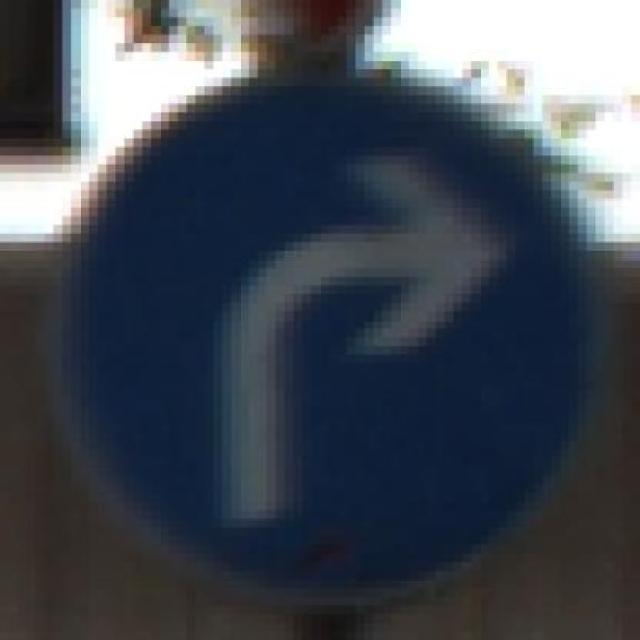Turn right ahead: (62, 71, 596, 592)
